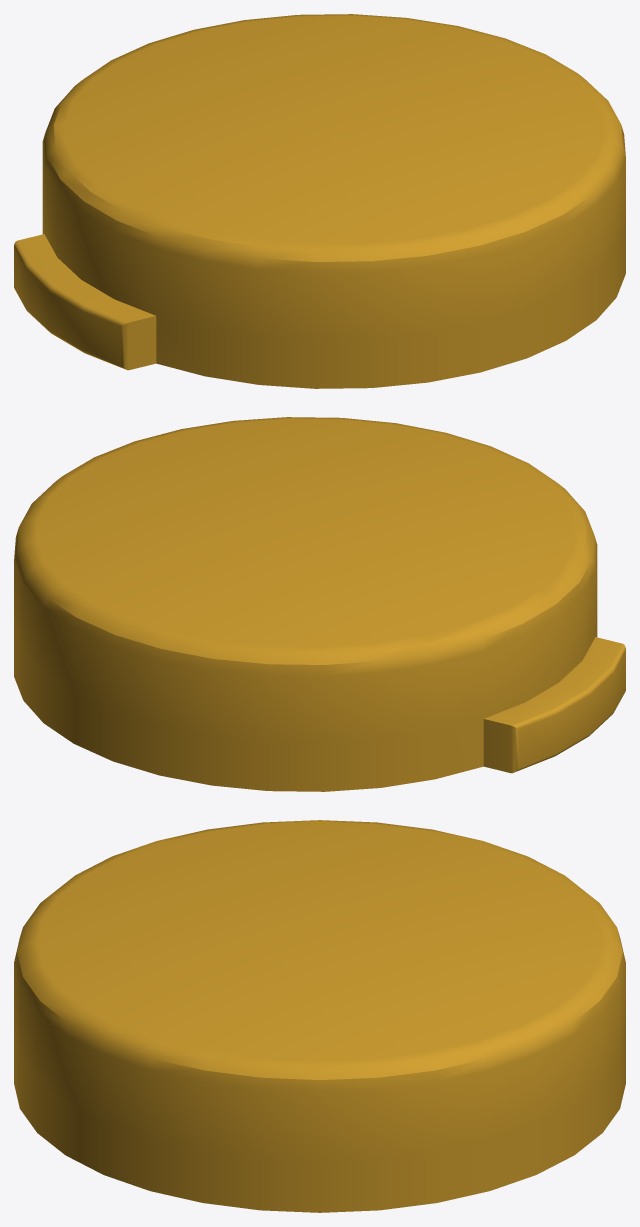
Rendered from oil_bottle_nap_top.fbx.
3 renders of one model, top to bottom at view 1: azimuth 30°, elevation 25°; view 2: azimuth 150°, elevation 25°; view 3: azimuth 270°, elevation 25°, orthographic. The views are drawn at different scales.
Parts seen in each view (by area): view 1: oil_bottle_nap_up; view 2: oil_bottle_nap_up; view 3: oil_bottle_nap_up.
Part boxes in pixels (left/top/right/bottom): oil_bottle_nap_up: left=14, top=14, right=625, bottom=388; oil_bottle_nap_up: left=14, top=417, right=625, bottom=791; oil_bottle_nap_up: left=14, top=820, right=625, bottom=1212.
Bounding box in the file's own units: 38.88 × 9.37 × 36.6.
Materials: 1 (1 with a texture image).
